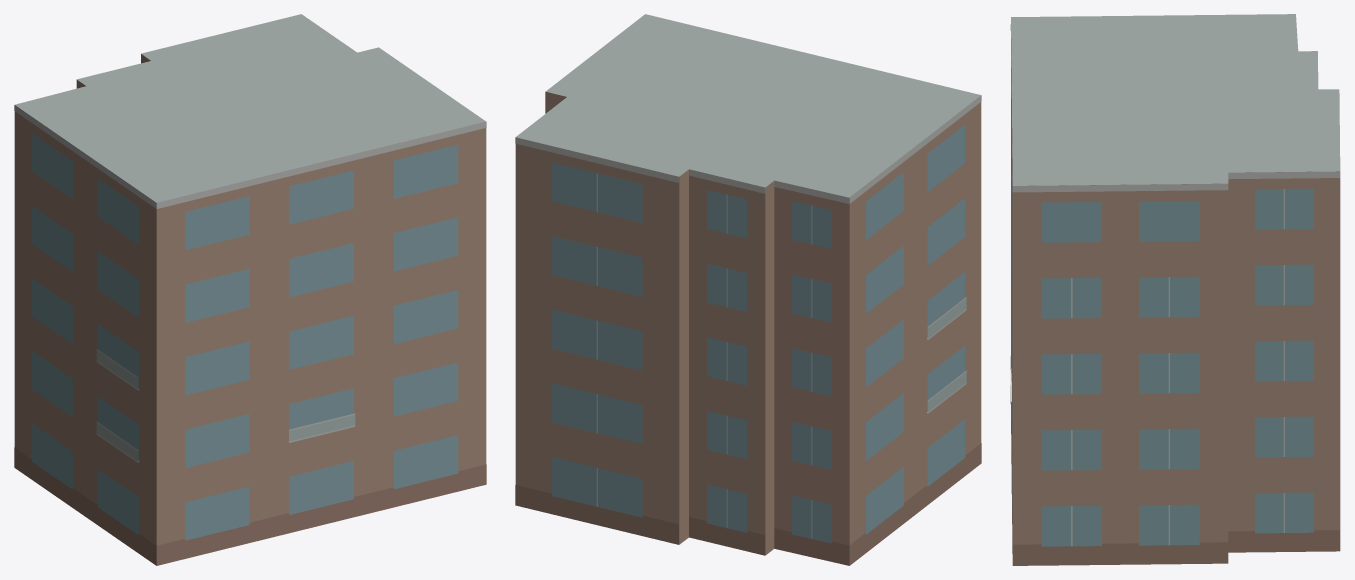
Rendered from survey-upis-32617738.glb.
3 renders of one model, left to right at view 1: azimuth 30°, elevation 25°; view 2: azimuth 150°, elevation 25°; view 3: azimuth 270°, elevation 25°, orthographic. The views are drawn at different scales.
Visible parts, largest first — view 1: survey-upis-32617738.tmp; view 2: survey-upis-32617738.tmp; view 3: survey-upis-32617738.tmp.
Part boxes in pixels (<box>): survey-upis-32617738.tmp: <box>14,14,486,565</box>; survey-upis-32617738.tmp: <box>515,14,981,565</box>; survey-upis-32617738.tmp: <box>1010,14,1340,565</box>.
Size of the model in its own units: 13.79 by 14.2 by 11.18.
